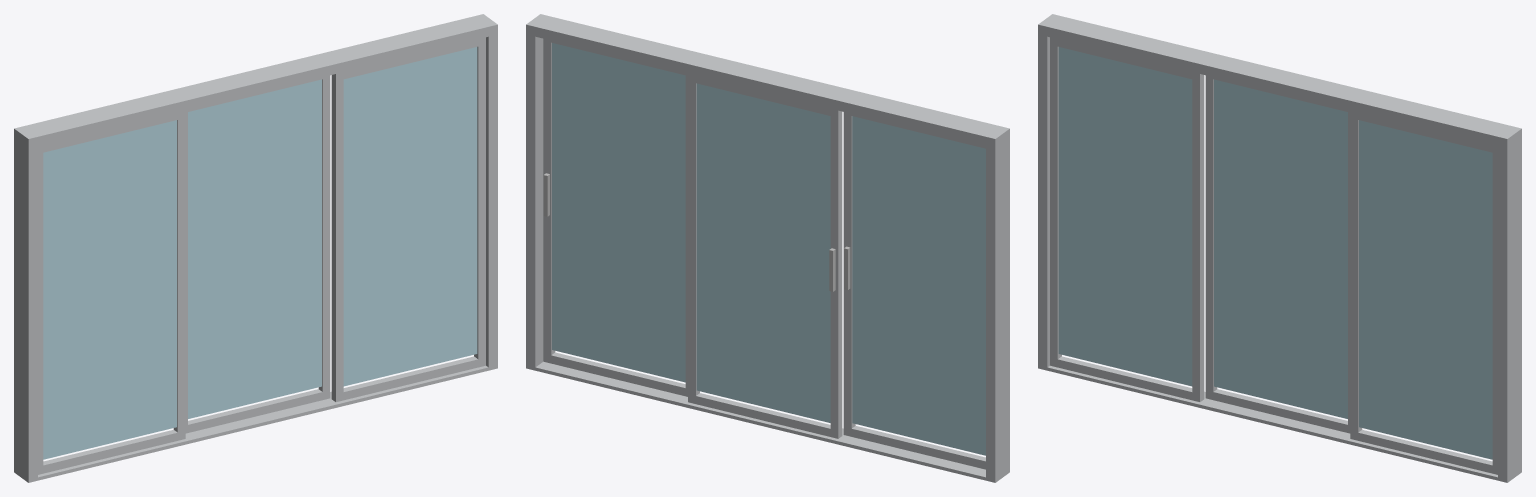
Rendered from opening.door.sliding_3000.glb.
3 views of the same model, side by side, from view 1: azimuth 30°, elevation 25°; view 2: azimuth 150°, elevation 25°; view 3: azimuth 330°, elevation 25° (orthographic).
Parts seen in each view (by area): view 1: glazing__glass, frame__aluminium, leaf__aluminium; view 2: glazing__glass, frame__aluminium, leaf__aluminium, ironmongery__steel_stainless; view 3: glazing__glass, frame__aluminium, leaf__aluminium.
Part boxes in pixels (box(x1,y1,x2,y2)): glazing__glass: box(43, 47, 477, 459); frame__aluminium: box(14, 14, 497, 482); leaf__aluminium: box(38, 37, 485, 474); glazing__glass: box(552, 43, 985, 455); frame__aluminium: box(526, 14, 1009, 482); leaf__aluminium: box(543, 38, 985, 469); ironmongery__steel_stainless: box(543, 173, 850, 291); glazing__glass: box(1058, 47, 1492, 459); frame__aluminium: box(1038, 14, 1521, 482); leaf__aluminium: box(1050, 37, 1497, 474).
Size of the model in its own units: 3 by 2.1 by 0.16.
